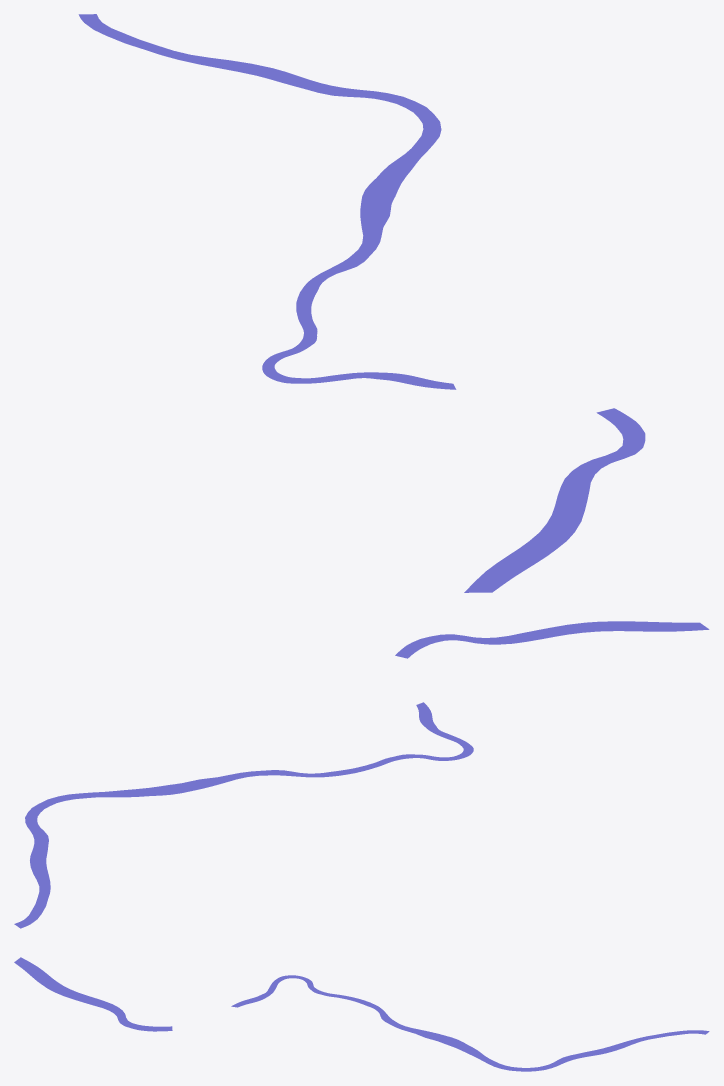
Rendered from P_waterstream_02_LD.fbx.
The picture shows the model from 3 angles, top to bottom: view 1: azimuth 30°, elevation 25°; view 2: azimuth 150°, elevation 25°; view 3: azimuth 270°, elevation 25°; orthographic projection. The views are drawn at different scales.
Visible parts, largest first — view 1: P_waterstream_02; view 2: P_waterstream_02; view 3: P_waterstream_02.
Part boxes in pixels (x1=…): P_waterstream_02: x1=78, y1=14, x2=645, y2=592; P_waterstream_02: x1=14, y1=621, x2=709, y2=928; P_waterstream_02: x1=14, y1=957, x2=709, y2=1071.
Size of the model in its own units: 10481 by 0.000151 by 26916.
